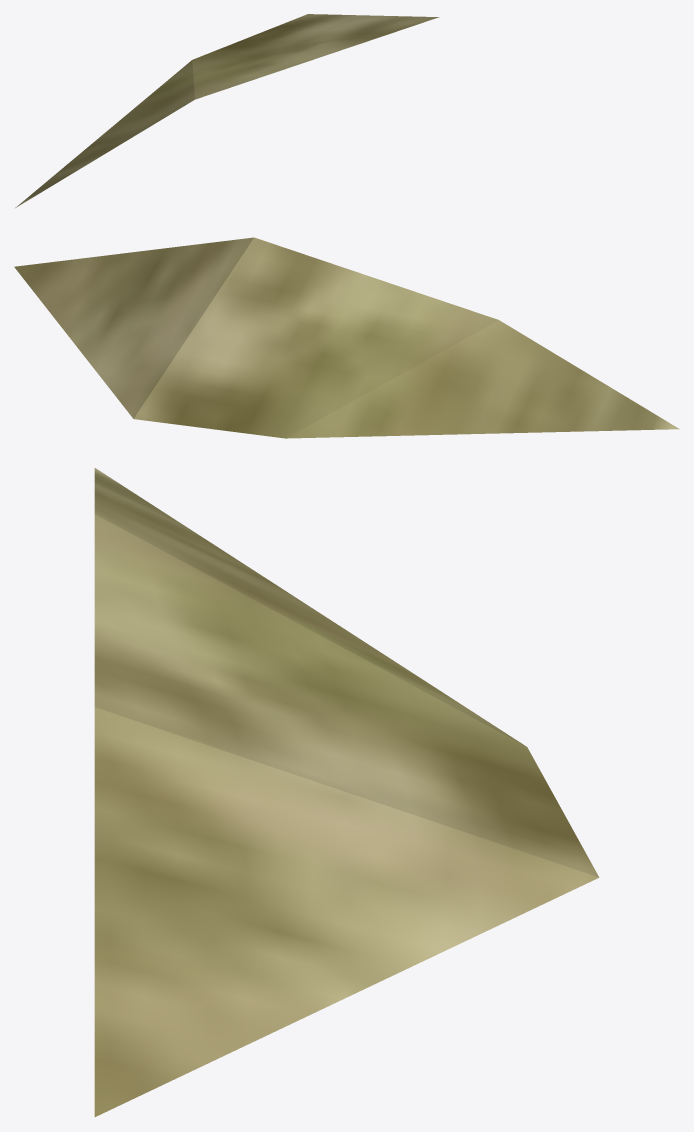
3 renders of one model, top to bottom at view 1: azimuth 30°, elevation 25°; view 2: azimuth 150°, elevation 25°; view 3: azimuth 270°, elevation 25°, orthographic. The views are drawn at different scales.
Size of the model in its own units: 0.9656 by 0.1218 by 0.317.
Materials: 1 (1 with a texture image).
